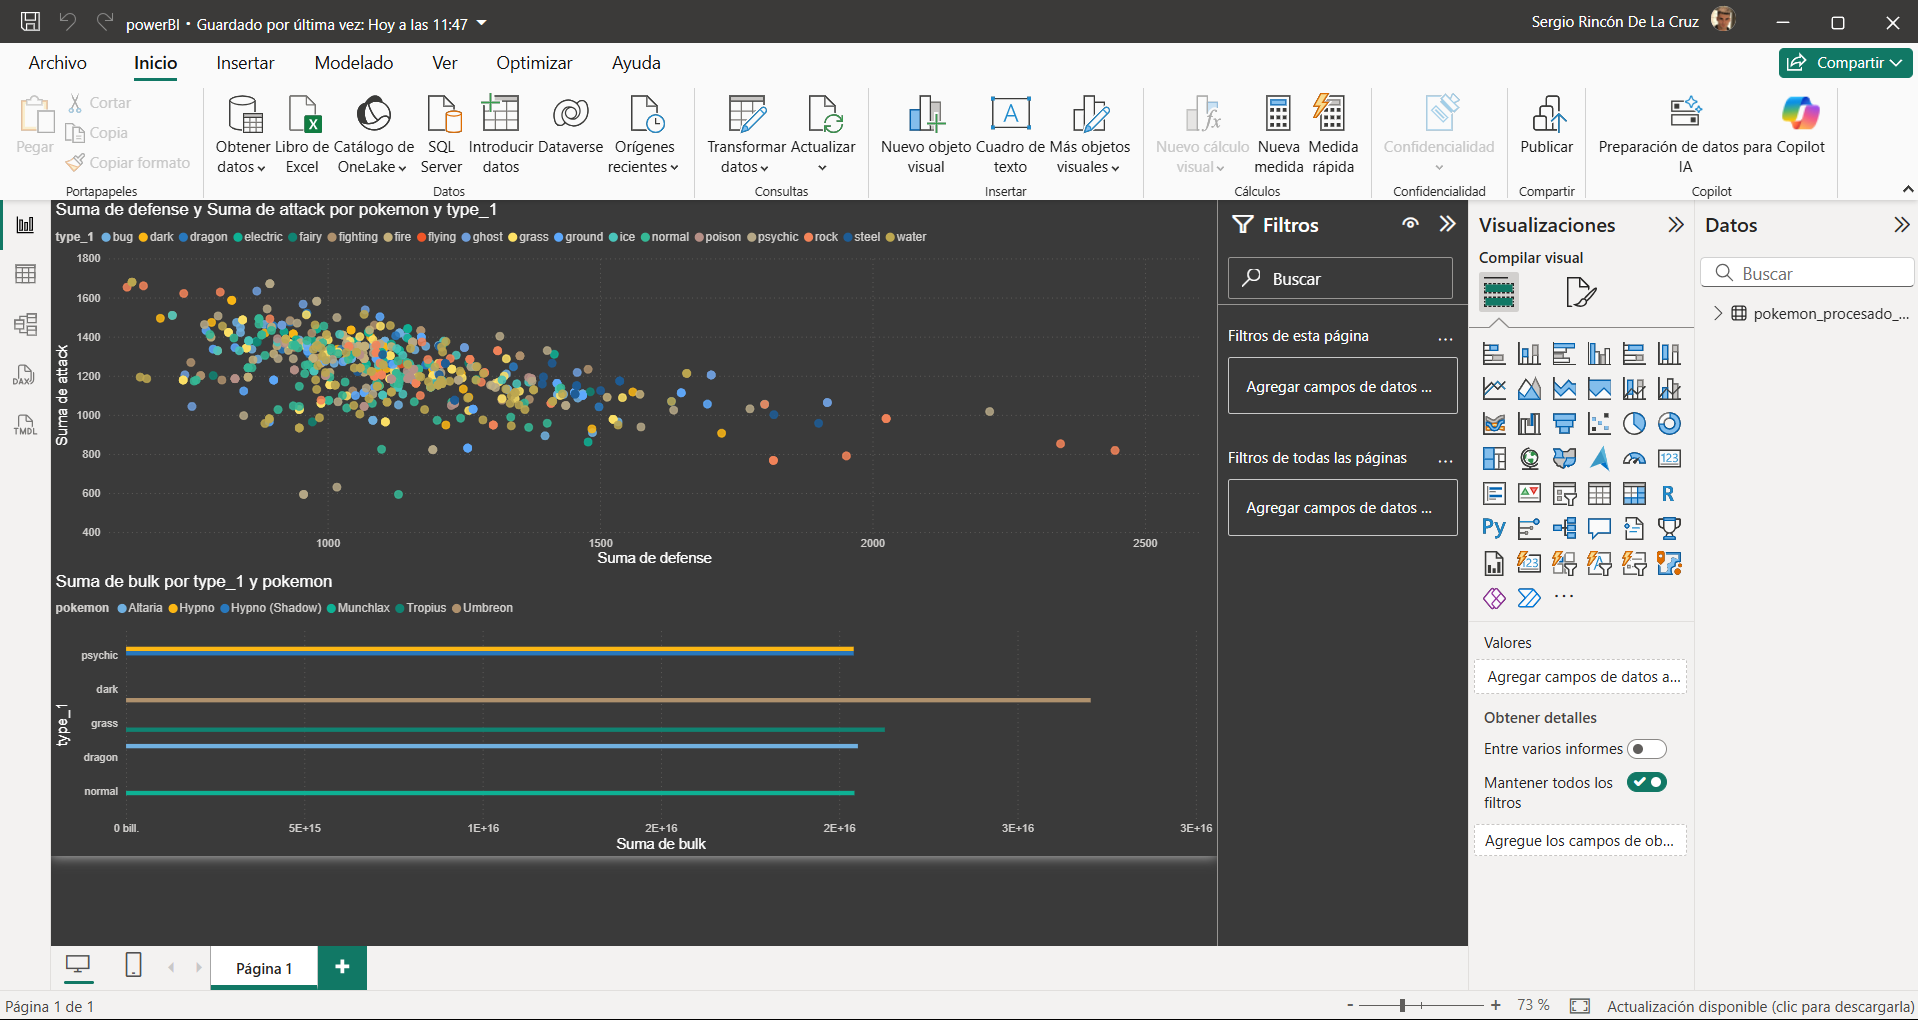

The page's visual inventory and layout, read from the dashboard file:
{"tool":"powerbi","page":{"name":"Página 1","canvas":[1280,720],"ordinal":0},"visuals":[{"type":"scatterChart","fields":{"X":["Sum(pokemon_procesado_kpis.defense)"],"Y":["Sum(pokemon_procesado_kpis.attack)"],"Category":["pokemon_procesado_kpis.pokemon"],"Series":["pokemon_procesado_kpis.type_1"]},"box":[0,0,1280,407.1],"z":0},{"type":"clusteredBarChart","fields":{"Y":["Sum(pokemon_procesado_kpis.bulk)"],"Category":["pokemon_procesado_kpis.type_1"],"Series":["pokemon_procesado_kpis.pokemon"]},"box":[0,407.1,1280,312.9],"z":1000}]}

Visuals, with their boxes on the page's 1280x720 design canvas (x1, y1, x2, y2). These are canvas units, not pixel positions in the 1918x1020 screenshot, which may show the page scaled, cropped or inside an application window:
scatterChart - Sum(pokemon_procesado_kpis.defense) x Sum(pokemon_procesado_kpis.attack): detection(0, 0, 1280, 407)
clusteredBarChart - Sum(pokemon_procesado_kpis.bulk) x pokemon_procesado_kpis.type_1: detection(0, 407, 1280, 720)
